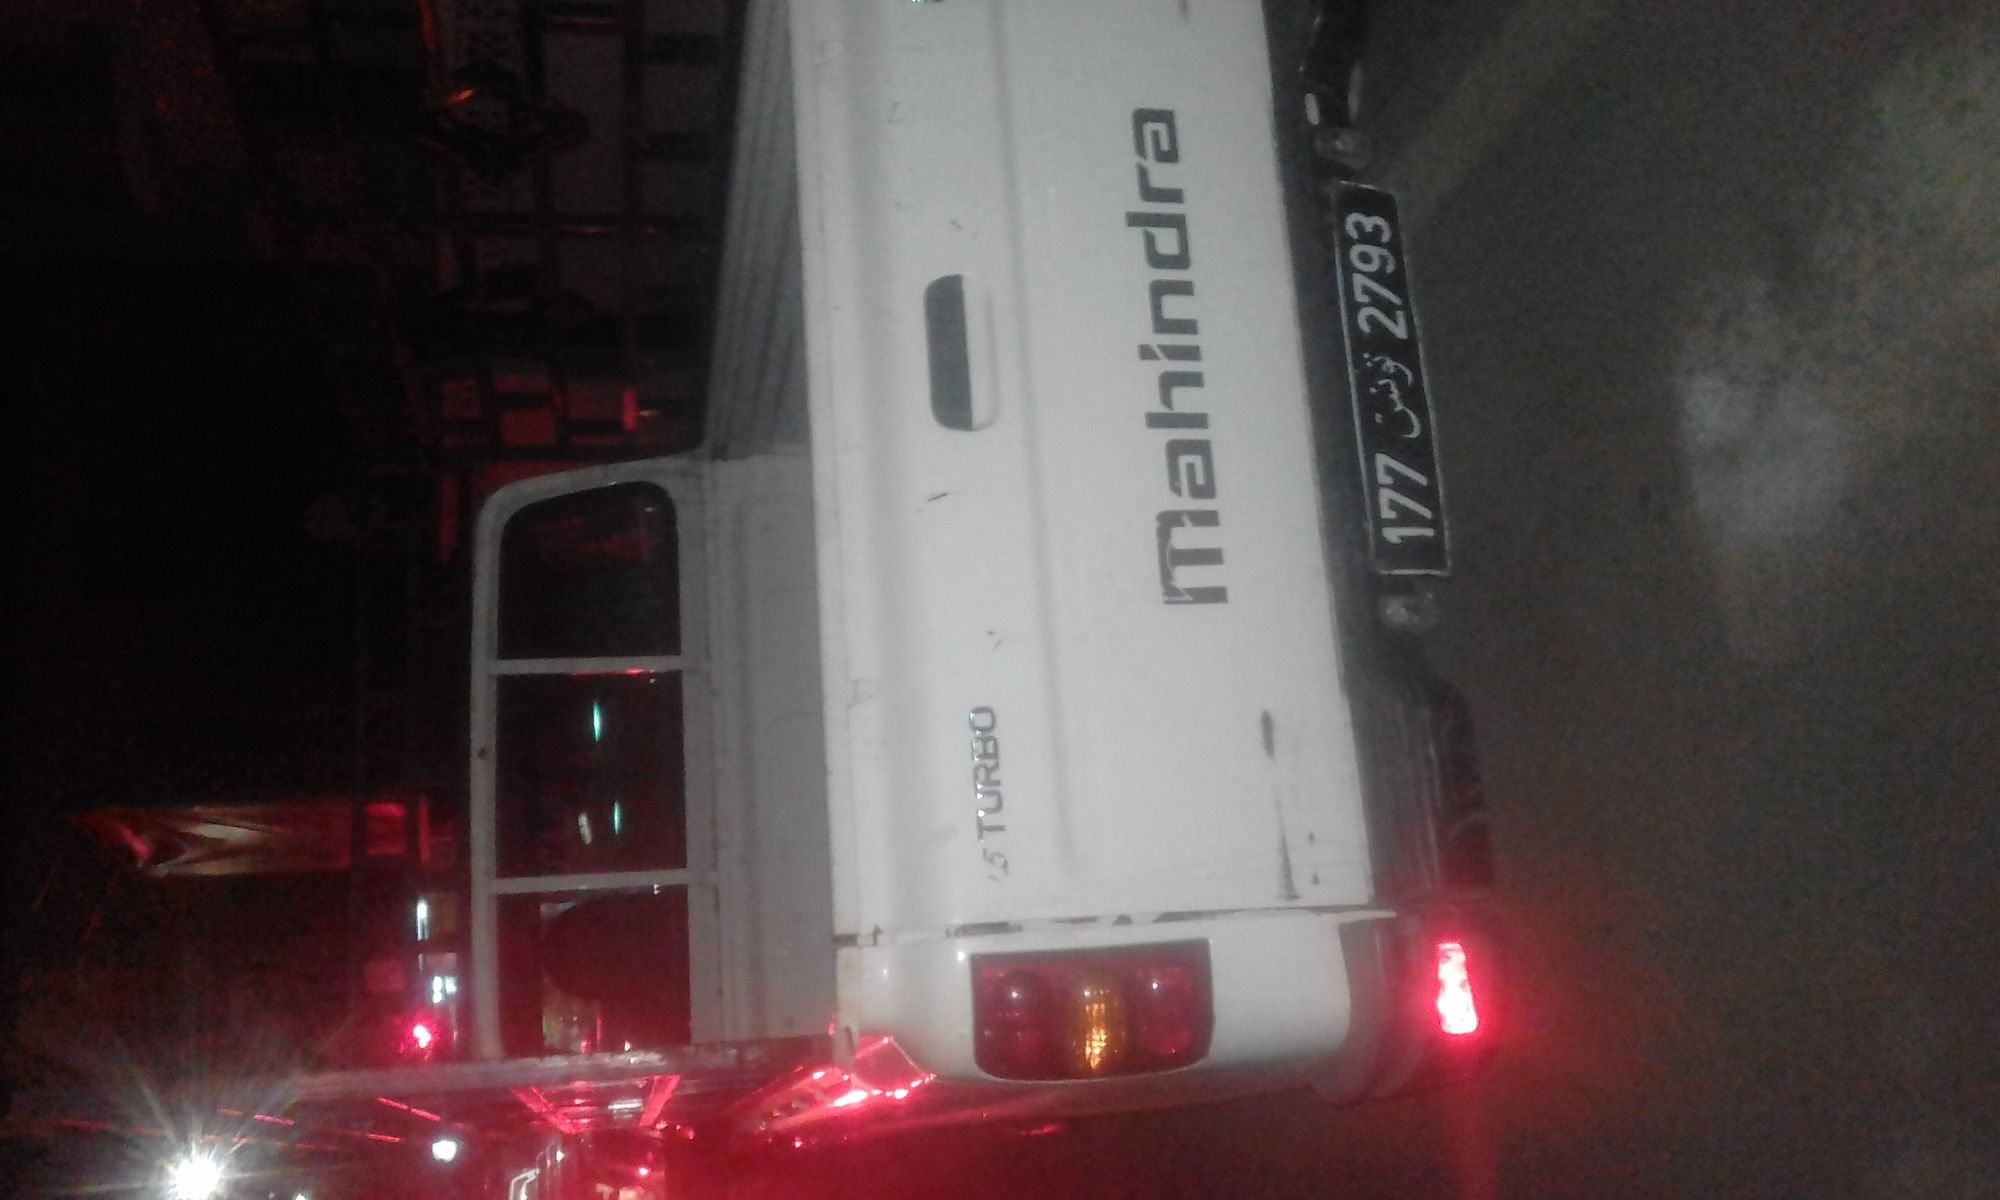LP: (1322, 168, 1469, 591)
